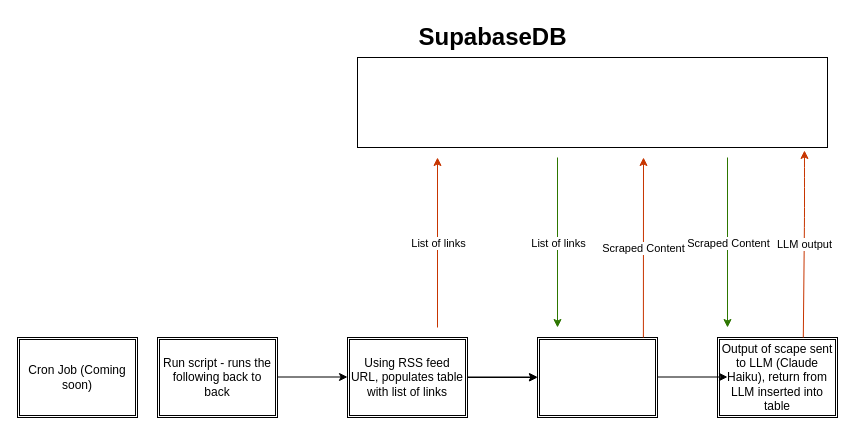
Image size: 855x435. Some labels were removed from this diagram. Here are the shapes that lost their labels. From the top down, the box of each, then its label:
(356, 56, 828, 148): summarizer_flow
(536, 336, 658, 418): Headless browser scapes list of links, inserts output into table
